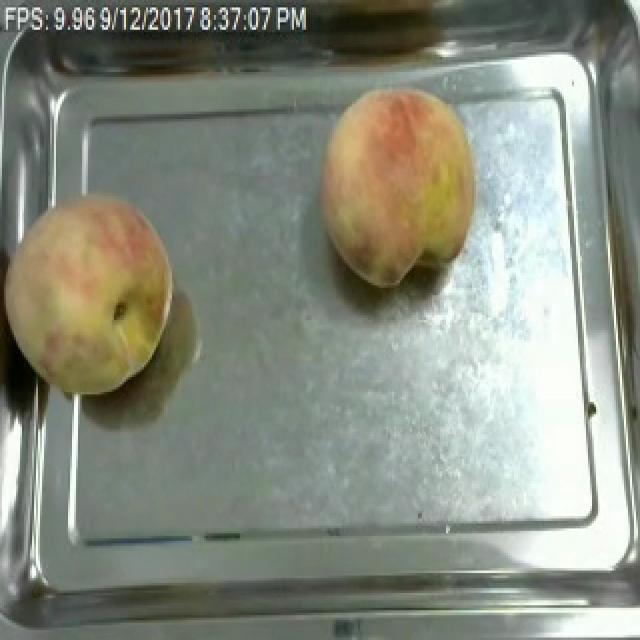Fruit: (0, 179, 186, 404), (306, 77, 488, 298)
